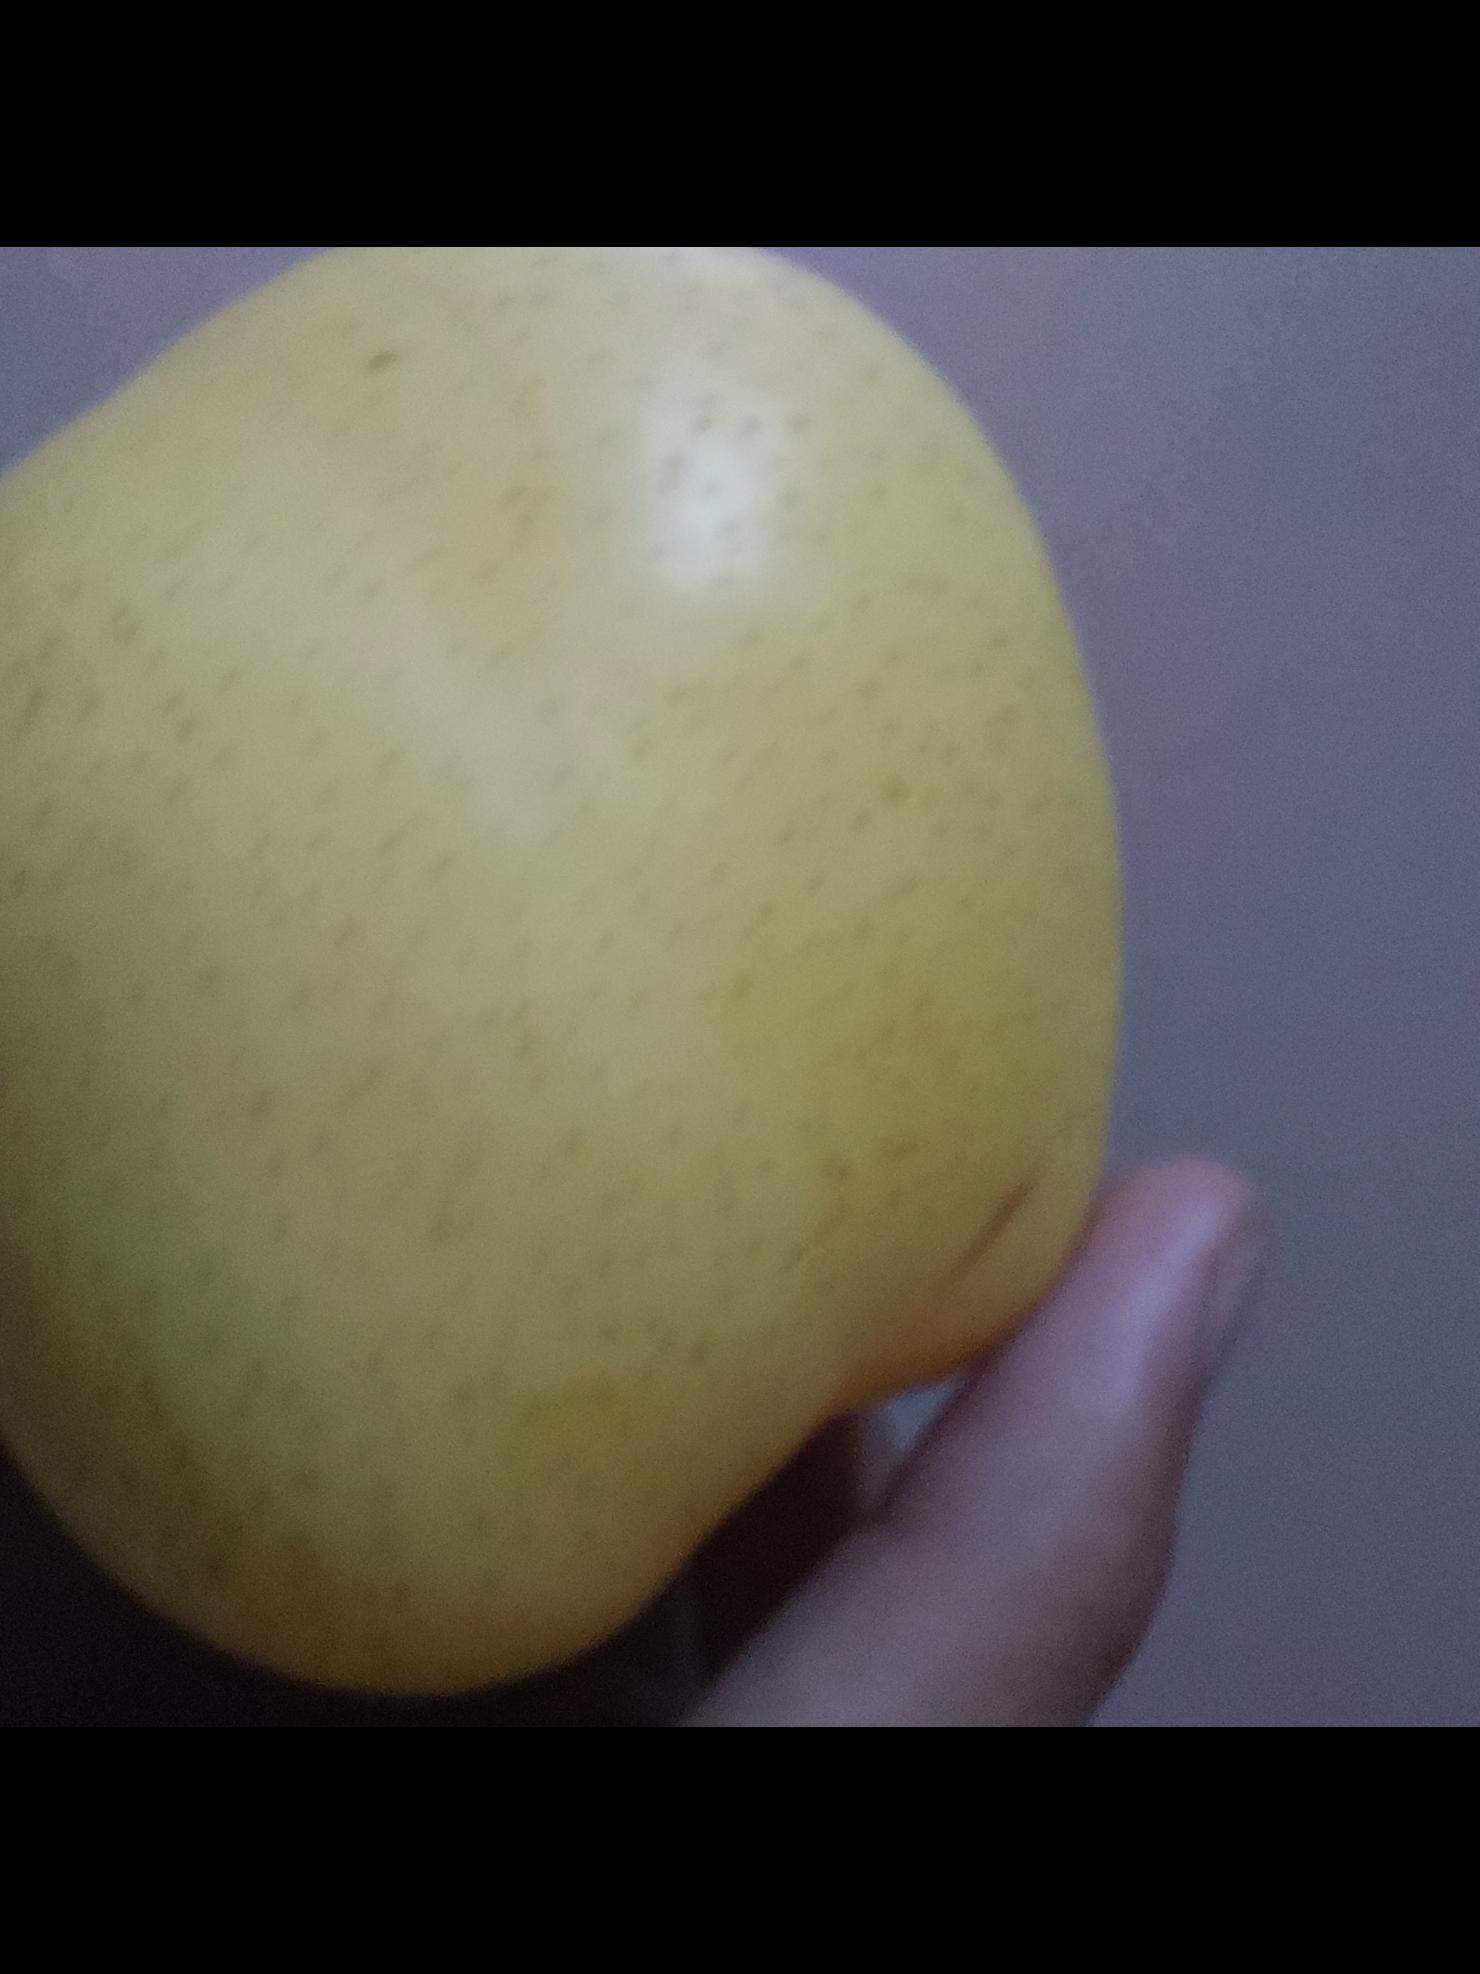Good Pear: (0, 247, 1118, 1697)
